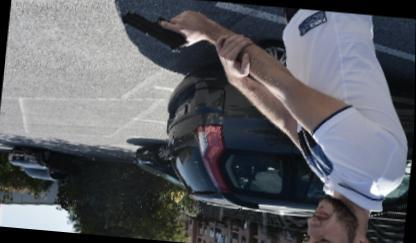pistol: (118, 10, 190, 53)
